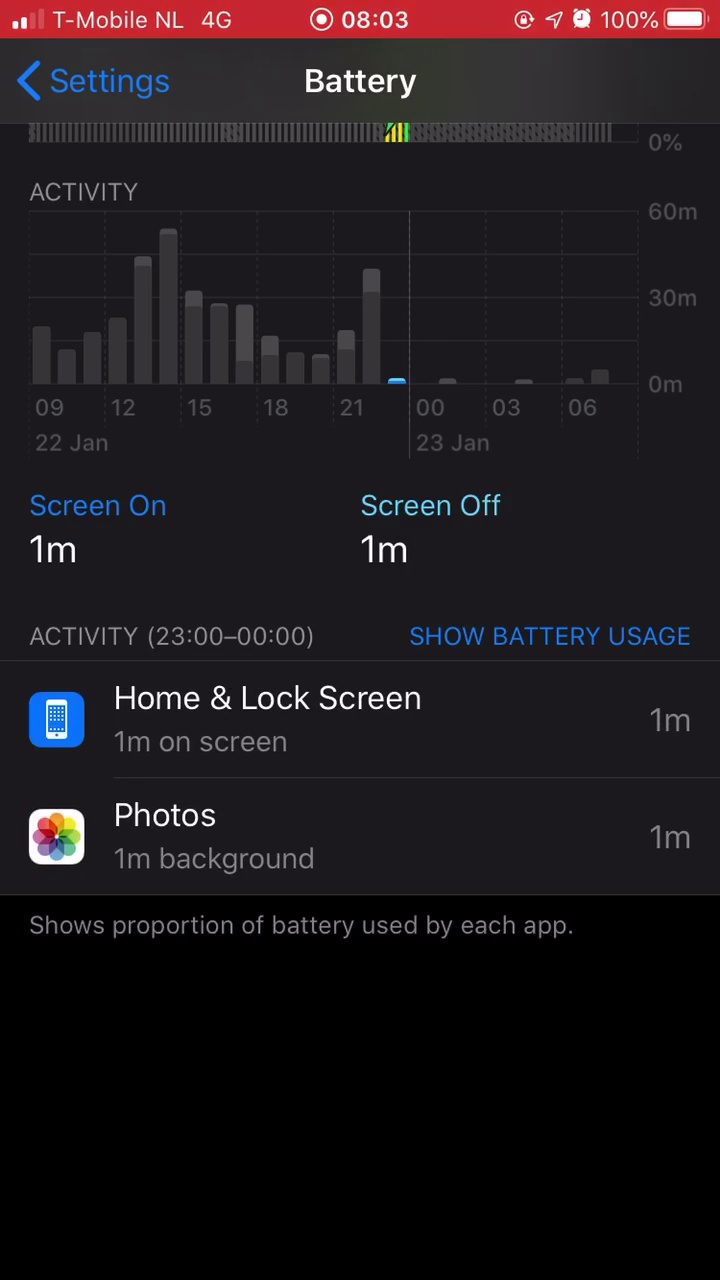activity: (23, 607, 340, 660)
app: (20, 660, 704, 769), (18, 784, 702, 893)
